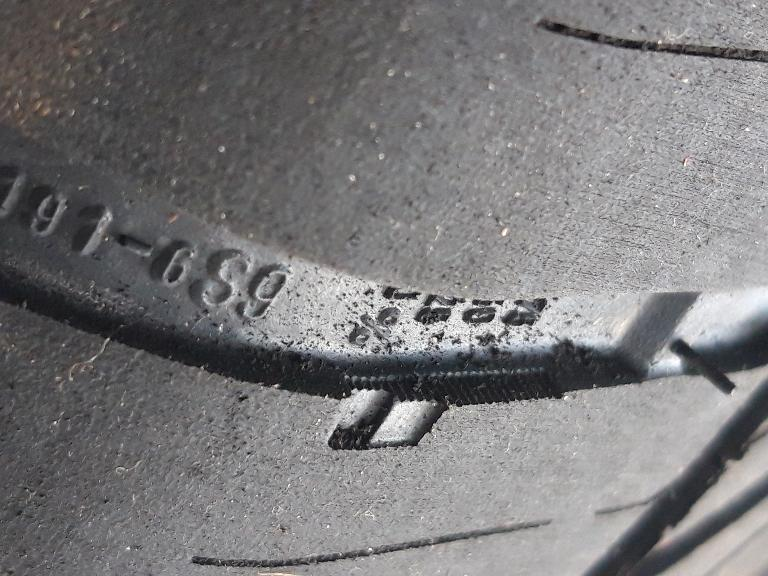temoin:25: (314, 356, 460, 465)
